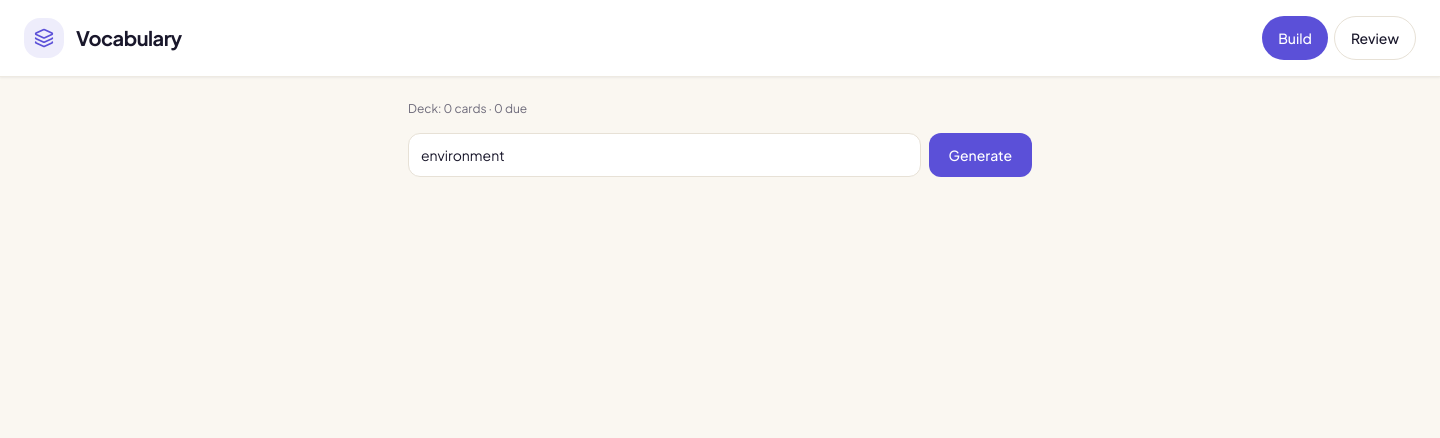
Test case: Vocab › shows the caught-up state in Review when nothing is due
Click the button "Review" at coordinates (1375, 38), box 1334,16 -> 1416,60
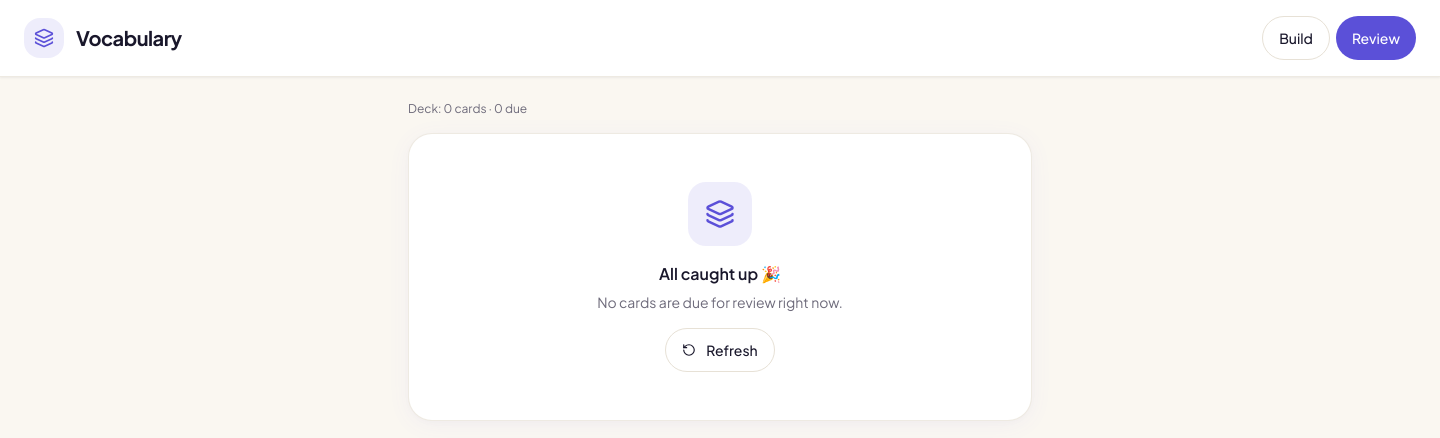
expect the text "All caught up 🎉" is shown: met, box 659,263 -> 781,284
